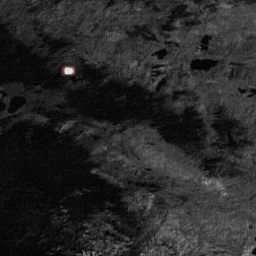Target: (63, 65, 74, 75)
